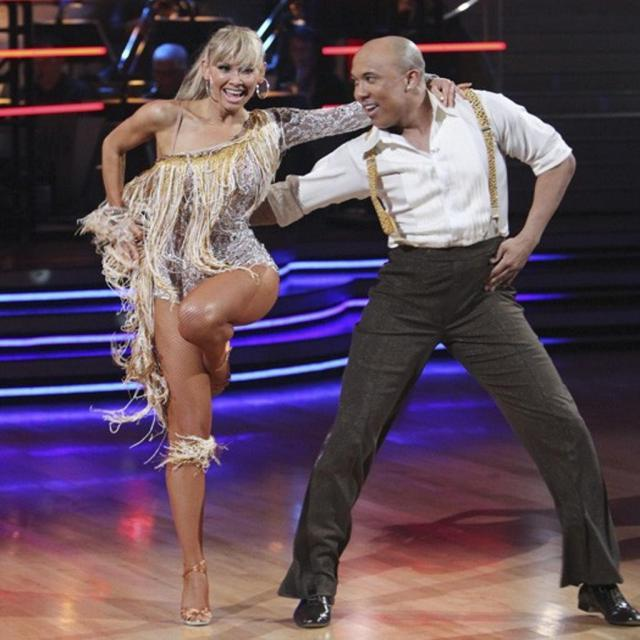Nonhelmet: (340, 29, 446, 132), (196, 16, 266, 116)
